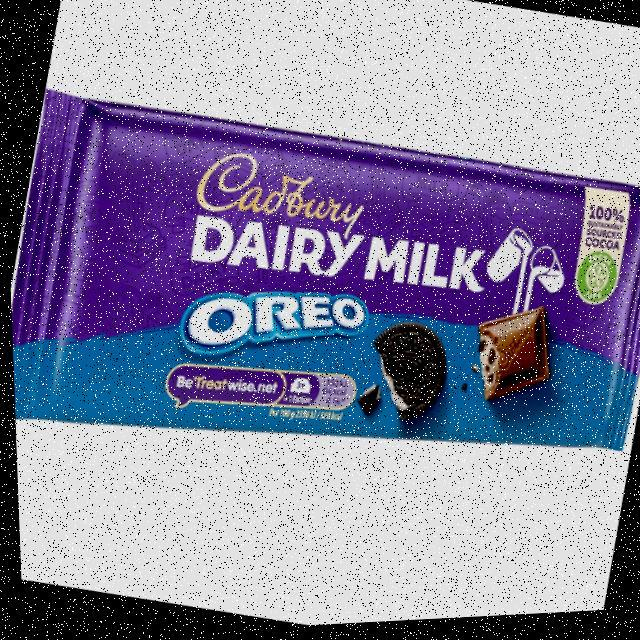cadbury_chocolate: (67, 90, 635, 473)
